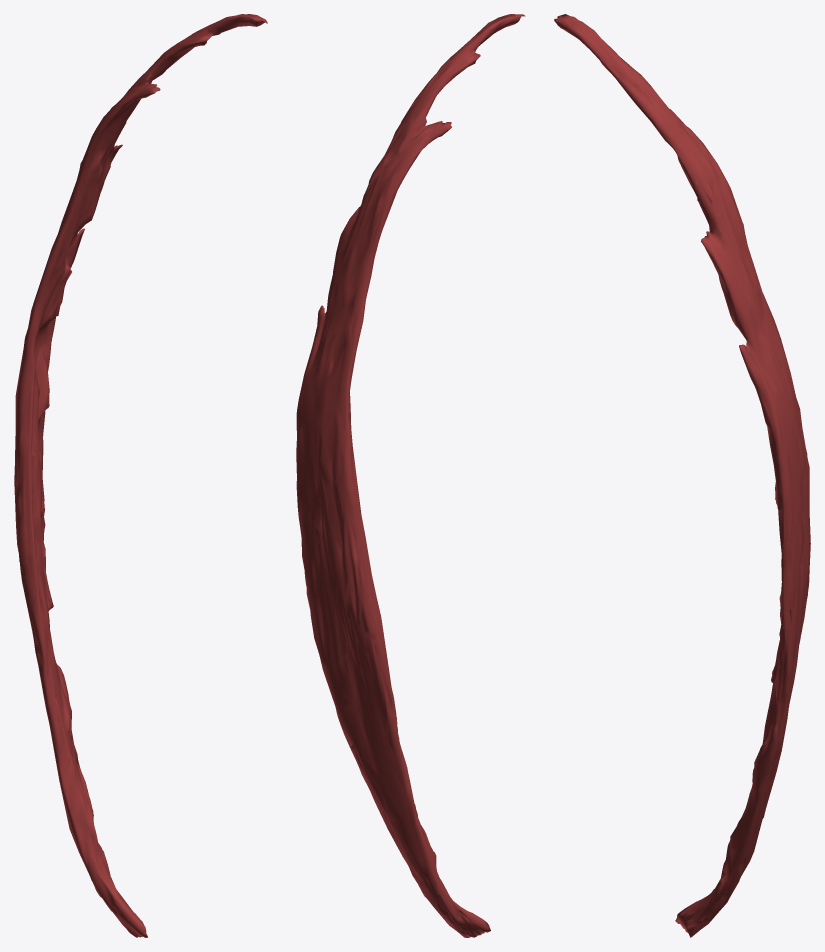
File: iliocostalis-thoracis-muscle-l.glb
3 renders of one model, left to right at view 1: azimuth 90°, elevation 25°; view 2: azimuth 150°, elevation 25°; view 3: azimuth 270°, elevation 25°, orthographic. The views are drawn at different scales.
Parts seen in each view (by area): view 1: Iliocostalis thoracis muscle.l; view 2: Iliocostalis thoracis muscle.l; view 3: Iliocostalis thoracis muscle.l.
Boxes of the visible parts, bbox=[...] form: Iliocostalis thoracis muscle.l: bbox=[14, 14, 267, 937]; Iliocostalis thoracis muscle.l: bbox=[296, 14, 525, 937]; Iliocostalis thoracis muscle.l: bbox=[554, 14, 810, 937].
Size of the model in its own units: 0.0547 by 0.3165 by 0.0796.
